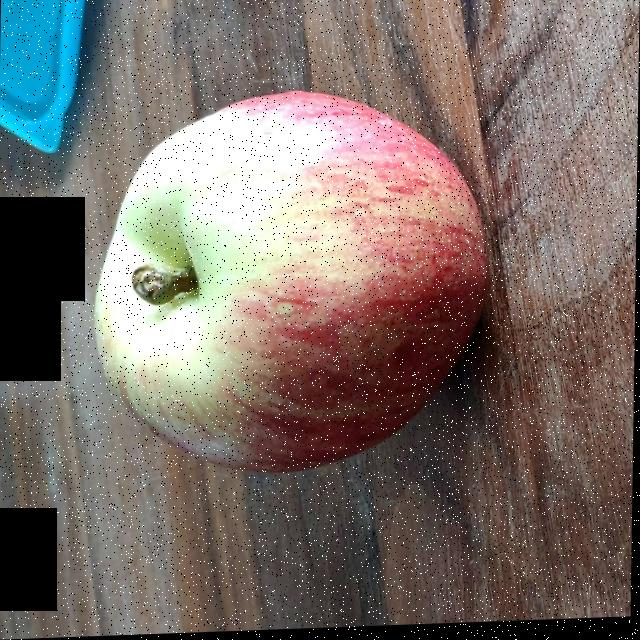apple: (110, 100, 486, 466)
